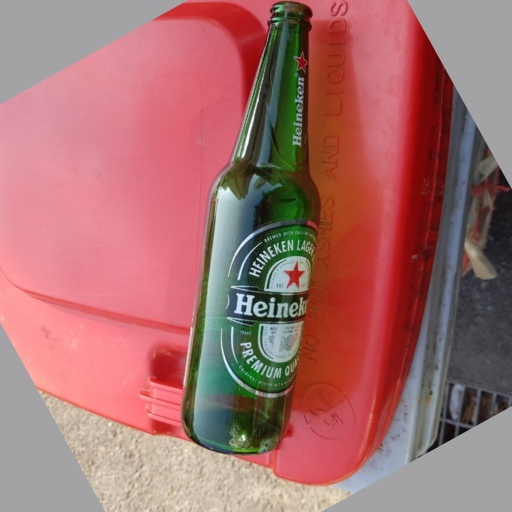Glass_1: (179, 4, 330, 452)
